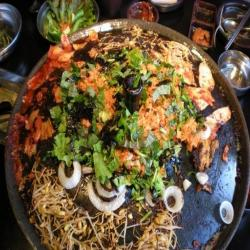salad: (56, 138, 102, 155)
